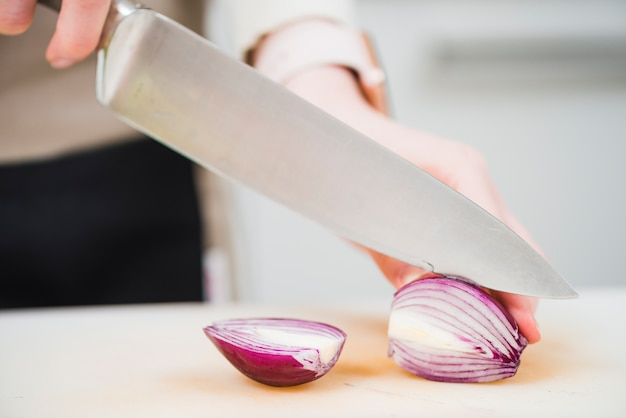knife: (92, 10, 580, 299)
